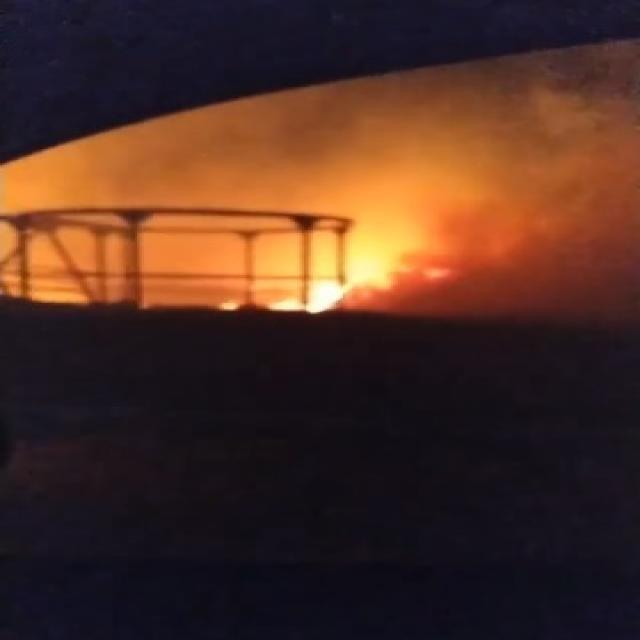Fire: (204, 274, 334, 316)
Smoke: (372, 55, 640, 317)
